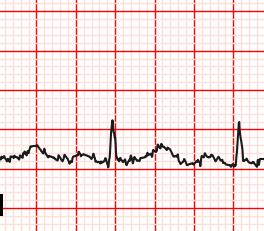LVH: (137, 136, 192, 173)
